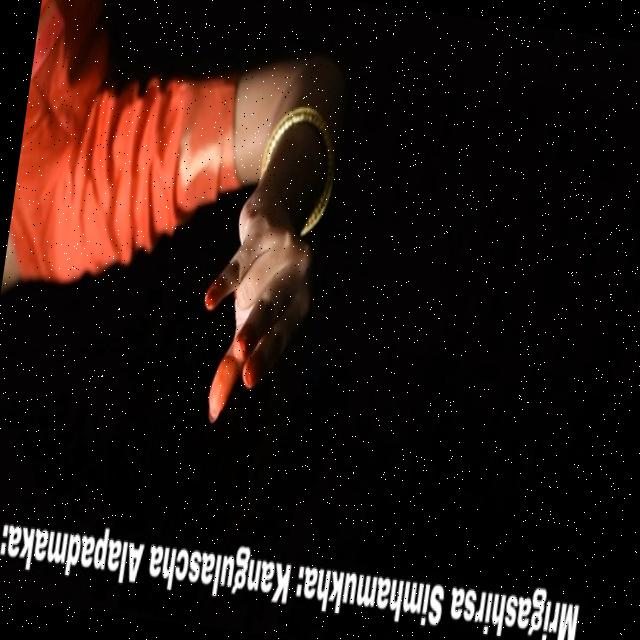Kangula: (170, 186, 323, 455)
bangle: (257, 84, 355, 218)
text: (0, 495, 593, 640)
